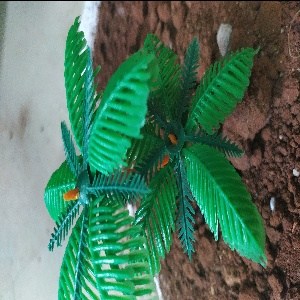plant: (39, 14, 273, 300)
